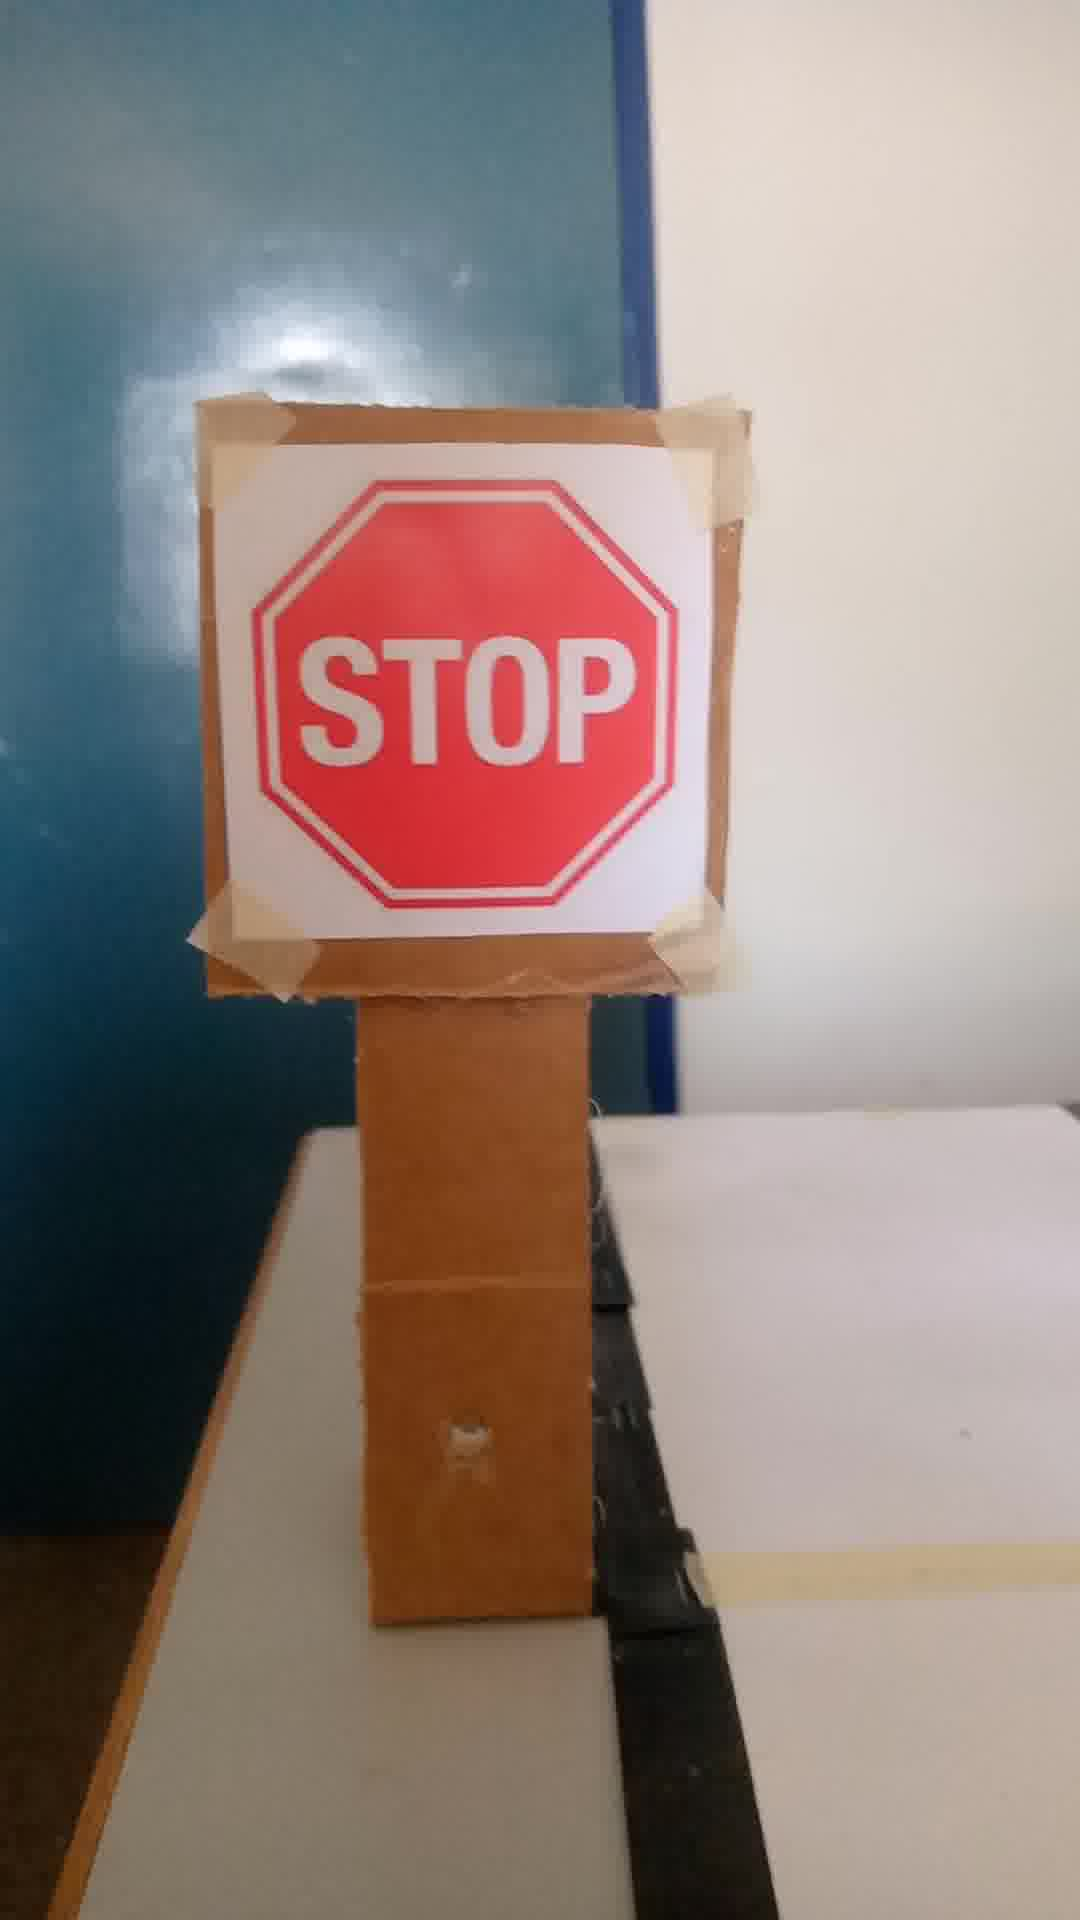panel101: (207, 431, 715, 949)
